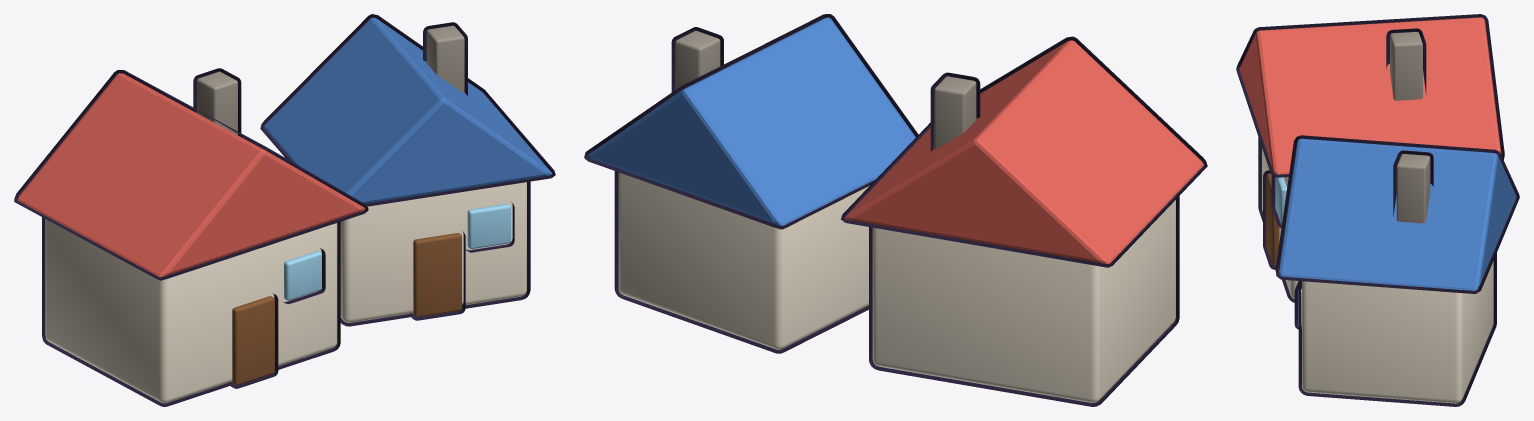
File: village_1.glb
The picture shows the model from 3 angles, left to right: view 1: azimuth 30°, elevation 25°; view 2: azimuth 150°, elevation 25°; view 3: azimuth 270°, elevation 25°; orthographic projection. The views are drawn at different scales.
Parts seen in each view (by area): view 1: cottage, cottage.001; view 2: cottage, cottage.001; view 3: cottage.001, cottage.
Boxes of the visible parts, x1=… form: cottage: x1=14, y1=68, x2=368, y2=406; cottage.001: x1=260, y1=14, x2=555, y2=326; cottage: x1=841, y1=36, x2=1207, y2=406; cottage.001: x1=584, y1=14, x2=918, y2=353; cottage.001: x1=1275, y1=135, x2=1519, y2=406; cottage: x1=1236, y1=14, x2=1504, y2=302.
Size of the model in its own units: 3.93 by 1.95 by 2.08.
